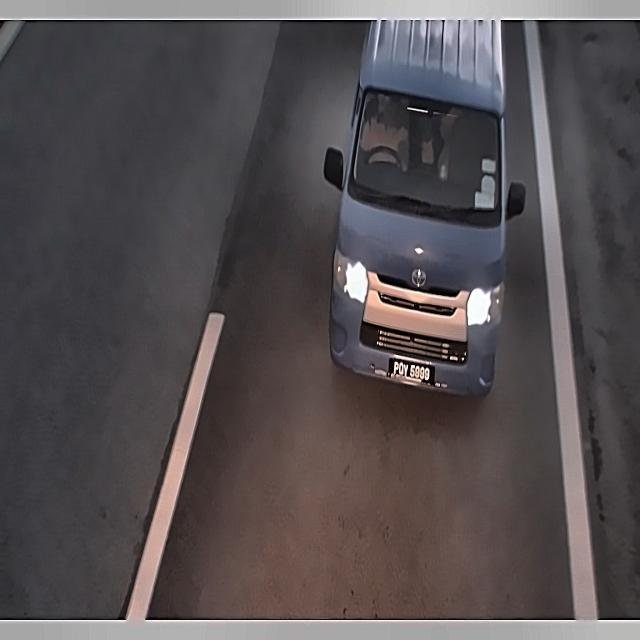car: (387, 353, 437, 390)
